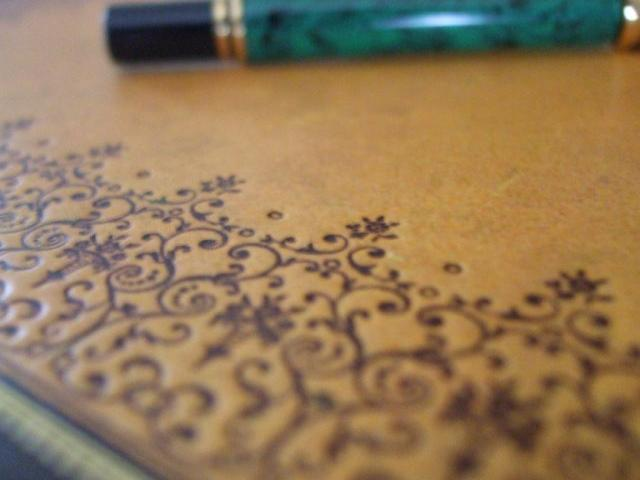PEN: (77, 0, 640, 88)
